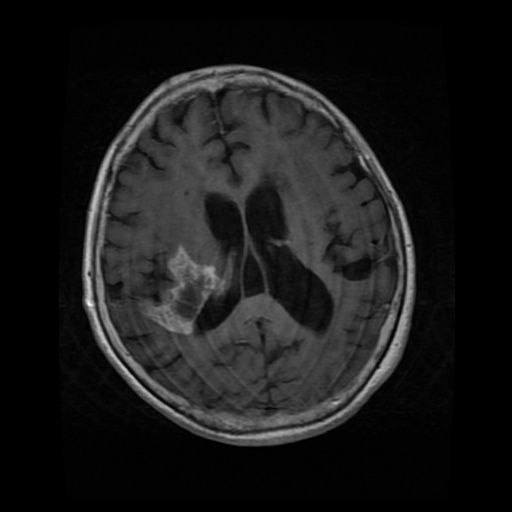glioma: (137, 241, 227, 333)
